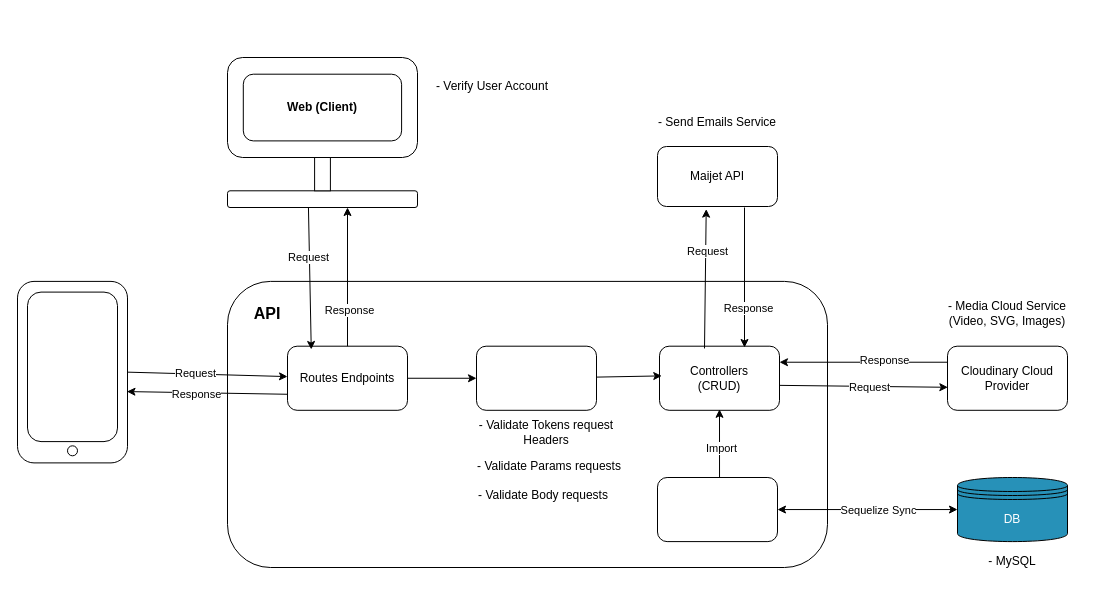
This 1095x593 diagram has some shape labels left out. Each missing label, with the box of its shape:
App (Client): (26, 291, 118, 442)
Models: (656, 476, 778, 542)
Validators/ Middlewares: (476, 345, 596, 410)
